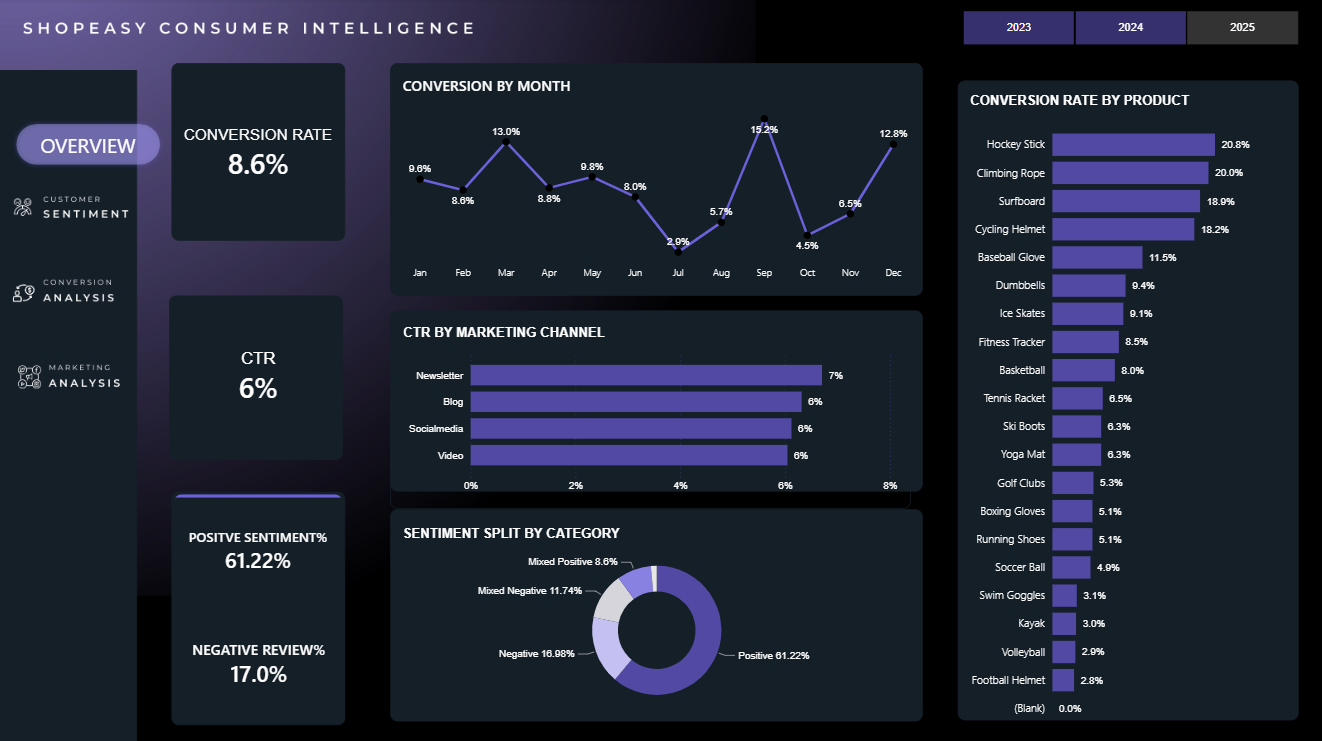

The page's visual inventory and layout, read from the dashboard file:
{"tool":"powerbi","page":{"name":"overview","canvas":[1600,900],"ordinal":0},"visuals":[{"type":"shape","box":[0,159,149.2,49.2],"z":0},{"type":"shape","box":[208.2,78.7,209.8,214.8],"z":1000},{"type":"shape","box":[208.2,595.1,209.8,282],"z":2000},{"type":"shape","box":[1157.4,100,411.5,772.1],"z":3000},{"type":"shape","box":[472.4,78.2,642.6,280.7],"z":4000},{"type":"lineChart","title":"CONVERSION BY MONTH","fields":{"Category":["Calendar.MonthNameShort"],"Y":["calculations.Conversion Rate"]},"box":[472.4,78.2,642.6,280.7],"z":5000},{"type":"clusteredBarChart","title":"CONVERSION RATE BY PRODUCT","fields":{"Y":["calculations.Conversion Rate"],"Category":["products.ProductName"]},"box":[1157.4,100,411.5,800],"z":6000},{"type":"cardVisual","fields":{"Data":["negative_reviews_issues.neagtive review %"]},"box":[208.2,734.4,211.5,137.7],"z":7000},{"type":"shape","box":[472.1,616.4,642.6,255.7],"z":8000},{"type":"donutChart","title":"SENTIMENT SPLIT BY CATEGORY","fields":{"Category":["customer_reviews_sentiment.SentimentCategory"],"Y":["CountNonNull(customer_reviews_sentiment.ReviewID)"]},"box":[472.1,621.3,642.6,255.7],"z":9000},{"type":"cardVisual","fields":{"Data":["calculations.Conversion Rate"]},"box":[211.5,95.1,203.3,186.9],"z":10000},{"type":"cardVisual","fields":{"Data":["calculations.% Positive Sentiment"]},"box":[211.7,598.2,204,136.5],"z":11000},{"type":"shape","box":[204.9,359,209.8,198.4],"z":12000},{"type":"shape","box":[472.1,377,642.6,218],"z":13000},{"type":"clusteredBarChart","title":"CTR BY MARKETING CHANNEL","fields":{"Category":["engagement_data_cleaned.ContentType"],"Y":["calculations.CTR"]},"box":[472.1,378.7,627.9,237.7],"z":14000},{"type":"cardVisual","fields":{"Data":["calculations.CTR"]},"box":[208.2,359,209.8,198.4],"z":15000},{"type":"slicer","fields":{"Values":["Calendar.Date.Variation.Date Hierarchy.Year"]},"box":[1142.6,13.1,442.6,44.3],"z":16000},{"type":"shape","box":[0,131.9,214.7,90.5],"z":17000},{"type":"actionButton","box":[11.5,223,157.4,59],"z":18000},{"type":"actionButton","box":[11.5,329.5,157.4,59],"z":19000},{"type":"actionButton","box":[11.5,421.3,157.4,59],"z":20000},{"type":"pageNavigator","box":[0,208.2,183.6,303.3],"z":21000}]}

Visuals, with their boxes in screenshot pixels (x1, y1, x2, y2), scaled from the page's 1600x900 canvas onto the 1322x741 screenshot:
shape: bbox=(0, 131, 123, 171)
shape: bbox=(172, 65, 345, 242)
shape: bbox=(172, 490, 345, 722)
shape: bbox=(956, 82, 1296, 718)
shape: bbox=(390, 64, 921, 295)
"CONVERSION BY MONTH" lineChart: bbox=(390, 64, 921, 295)
"CONVERSION RATE BY PRODUCT" clusteredBarChart: bbox=(956, 82, 1296, 740)
cardVisual - negative_reviews_issues.neagtive review %: bbox=(172, 605, 347, 718)
shape: bbox=(390, 508, 921, 718)
"SENTIMENT SPLIT BY CATEGORY" donutChart: bbox=(390, 512, 921, 722)
cardVisual - calculations.Conversion Rate: bbox=(175, 78, 343, 232)
cardVisual - calculations.% Positive Sentiment: bbox=(175, 493, 343, 605)
shape: bbox=(169, 296, 343, 459)
shape: bbox=(390, 310, 921, 490)
"CTR BY MARKETING CHANNEL" clusteredBarChart: bbox=(390, 312, 909, 508)
cardVisual - calculations.CTR: bbox=(172, 296, 345, 459)
slicer - Calendar.Date.Variation.Date Hierarchy.Year: bbox=(944, 11, 1310, 47)
shape: bbox=(0, 109, 177, 183)
actionButton: bbox=(10, 184, 140, 232)
actionButton: bbox=(10, 271, 140, 320)
actionButton: bbox=(10, 347, 140, 395)
pageNavigator: bbox=(0, 171, 152, 421)
